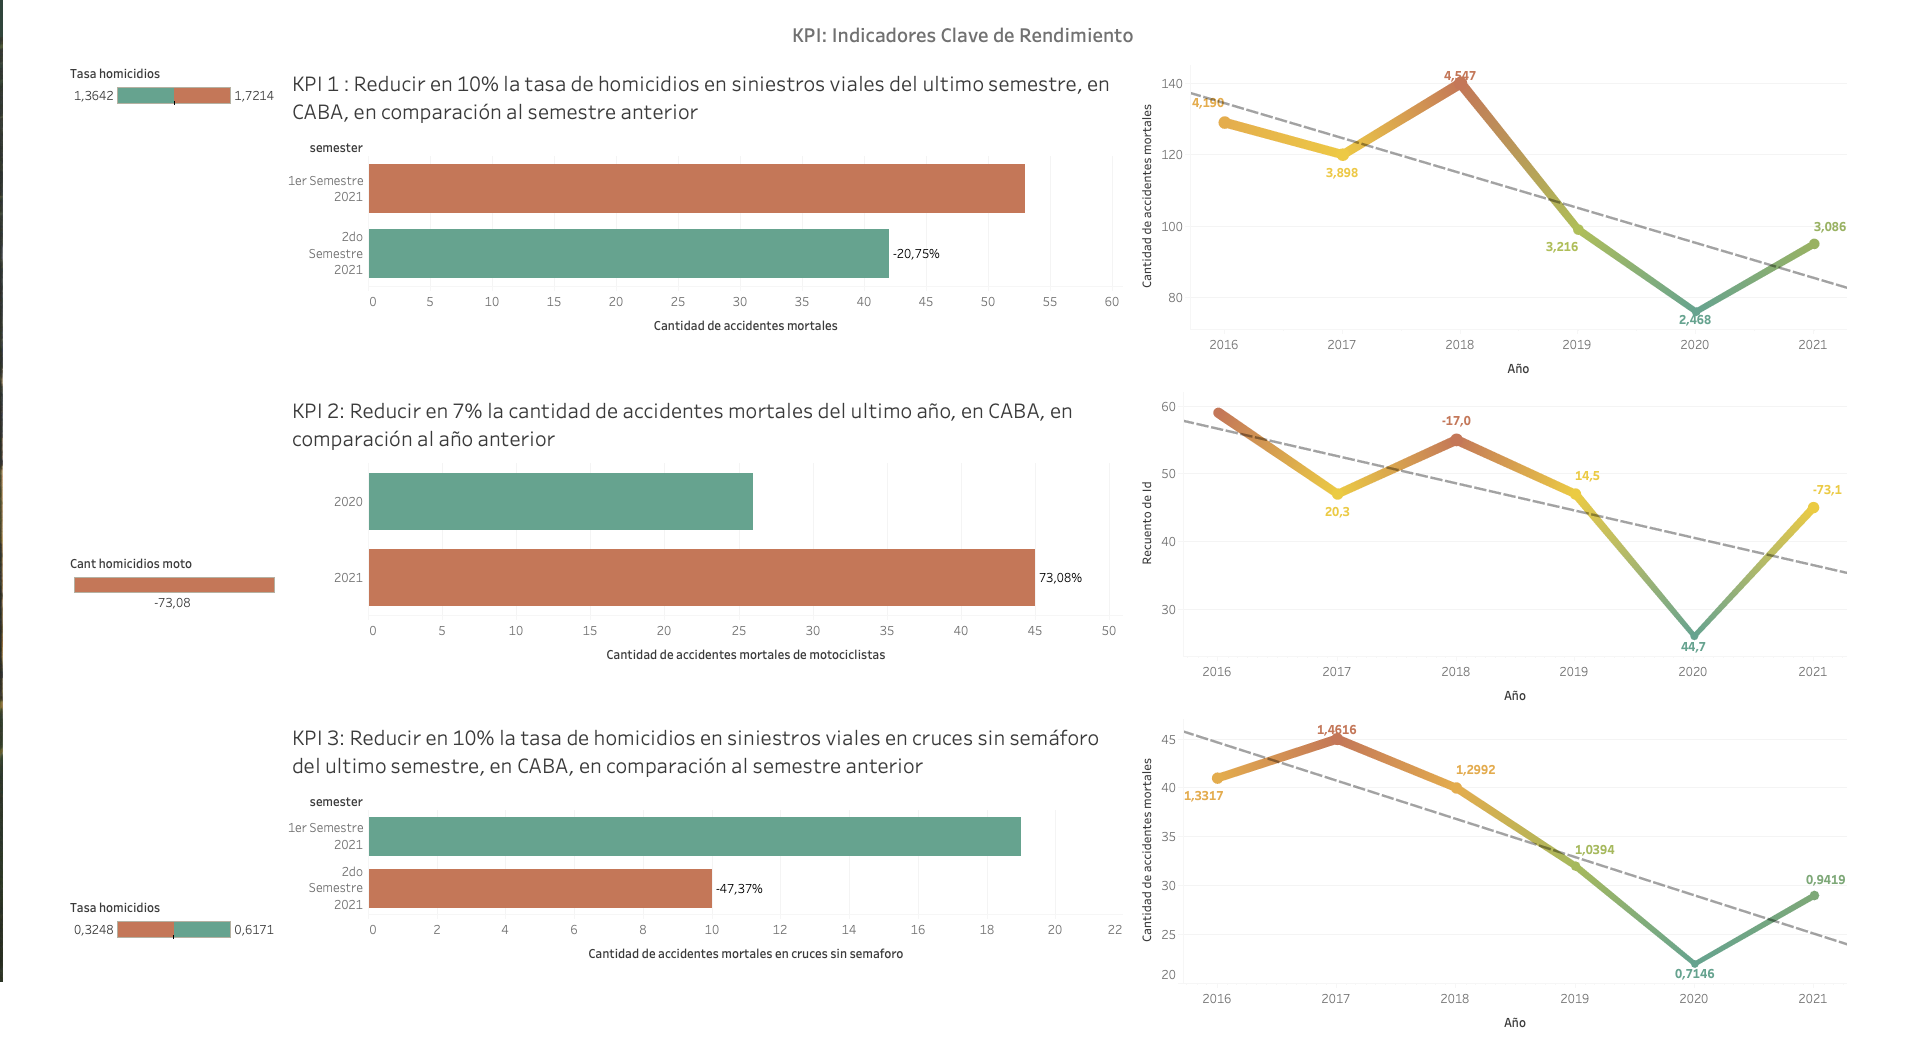

What the dashboard file says about the page in this screenshot:
{"tool":"tableau","page":{"name":"KPIs","canvas":[1000,1000],"units":"permille","ordinal":0},"visuals":[{"type":"text","box":[5,8.6,990,50.2]},{"type":"legend","title":"kpi 1","param":"[federated.0k5duec1688vot1citf2f15isno2].[usr:Calculation_6733444457493032987:qk","box":[33.6,58.8,113.1,69.5]},{"type":"worksheet","title":"kpi 1","mark":"Automatic","rows":["Calculation_6733444457492242454"],"cols":["Id"],"box":[146.7,58.8,438.7,310.8]},{"type":"worksheet","title":"kpi 1 (2)","mark":"Automatic","rows":["Id"],"cols":["Fecha"],"box":[585.4,58.8,376.2,310.8]},{"type":"worksheet","title":"kpi 2","mark":"Bar","rows":["Fecha"],"cols":["Id"],"box":[146.7,369.6,438.7,310.9]},{"type":"worksheet","title":"kpi 2 (2)","mark":"Automatic","rows":["Id"],"cols":["Fecha"],"box":[585.4,369.6,376.2,310.9]},{"type":"legend","title":"kpi 2","param":"[federated.0k5duec1688vot1citf2f15isno2].[usr:Tasa homicidios (copy)_67334444575","box":[33.6,524.6,113.1,326.8]},{"type":"worksheet","title":"kpi 3","mark":"Automatic","rows":["Calculation_6733444457492242454"],"cols":["Id"],"box":[146.7,680.5,438.7,310.9]},{"type":"worksheet","title":"kpi 3 (2)","mark":"Automatic","rows":["Id"],"cols":["Fecha"],"box":[585.4,680.5,376.2,310.9]},{"type":"legend","title":"kpi 3","param":"[federated.0k5duec1688vot1citf2f15isno2].[usr:Calculation_6733444457493032987:qk","box":[33.6,851.4,113.1,140.1]}]}

Visuals, with their boxes on the dashboard's canvas, which has no fixed pixel size, in thousandths of its width and height (x1, y1, x2, y2). These are canvas units, not pixel positions in the 1923x1049 screenshot, which may show the page scaled, cropped or inside an application window:
text: bbox=[5, 9, 995, 59]
"kpi 1" legend: bbox=[34, 59, 147, 128]
"kpi 1" worksheet: bbox=[147, 59, 585, 370]
"kpi 1 (2)" worksheet: bbox=[585, 59, 962, 370]
"kpi 2" worksheet (Bar marks): bbox=[147, 370, 585, 680]
"kpi 2 (2)" worksheet: bbox=[585, 370, 962, 680]
"kpi 2" legend: bbox=[34, 525, 147, 851]
"kpi 3" worksheet: bbox=[147, 680, 585, 991]
"kpi 3 (2)" worksheet: bbox=[585, 680, 962, 991]
"kpi 3" legend: bbox=[34, 851, 147, 992]
